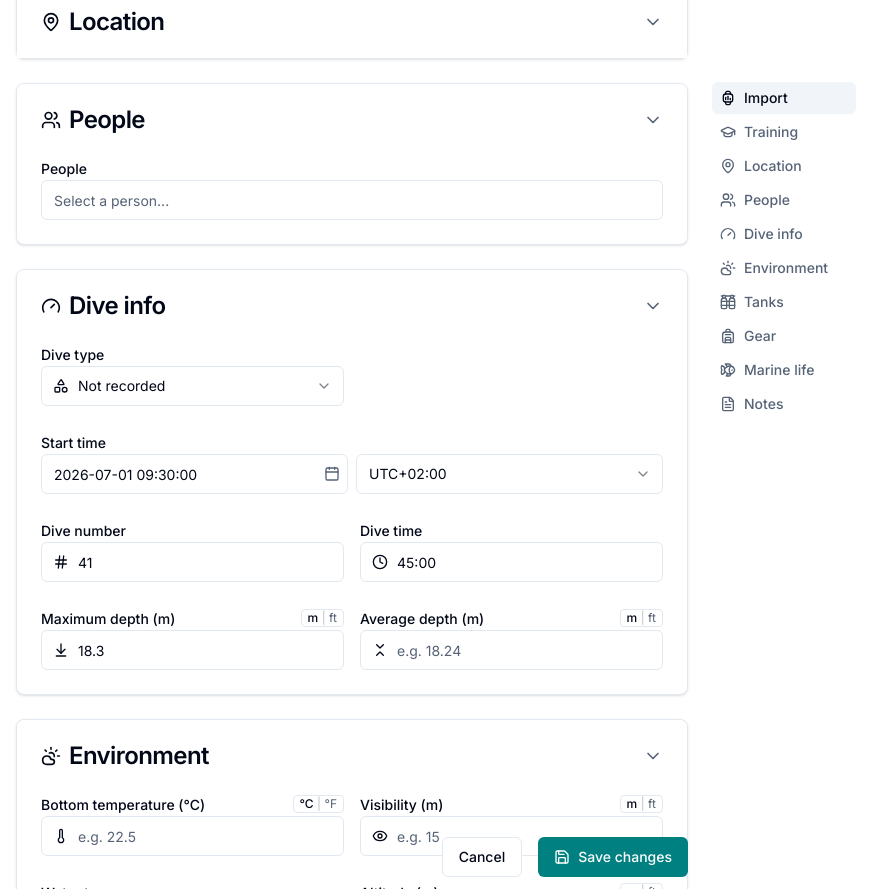
Test case: a dive's conditions while the form is open › asks nothing while the stored fill describes the dive, and replaces it once the start time moves
(page scrolled)
Select "UTC+03:00" in the dropdown named "UTC offset" at (510,474), box [356,454,663,494]
(page scrolled)
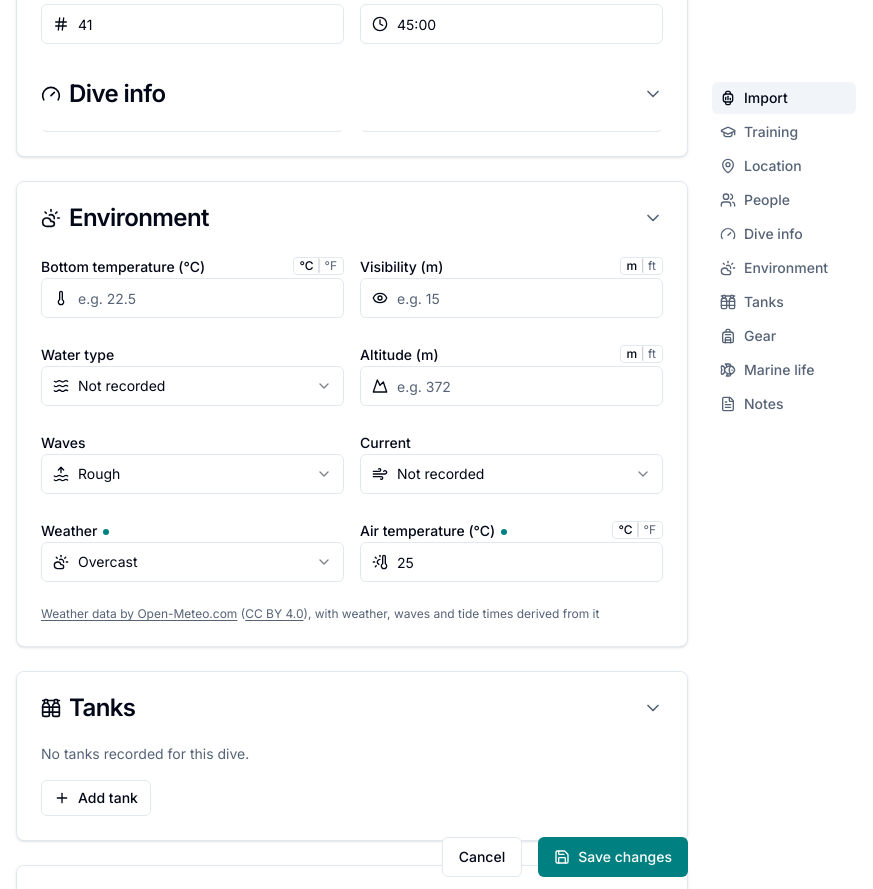
Expected: the dropdown labelled "Waves" shows "Rough", [41,454,344,494]
Now the dropdown labelled "Weather" shows "Overcast", box [41,542,344,582]
Now the number field labelled "Air temperature (°C)" holds "25", box [360,542,663,582]
